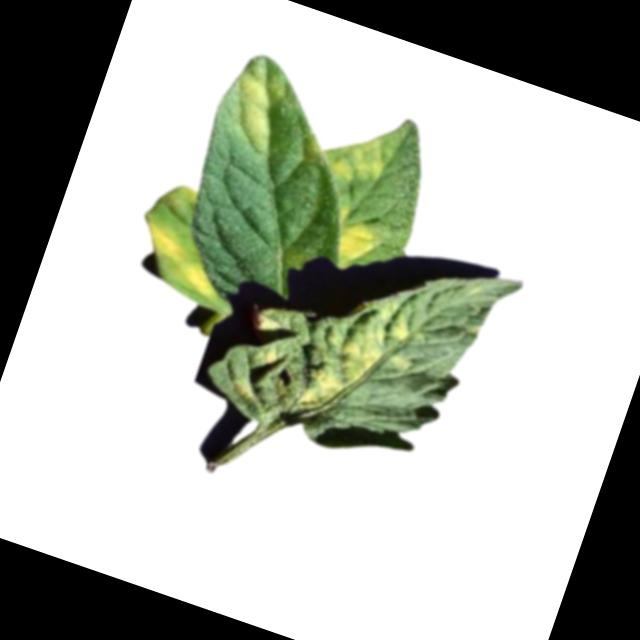Leaf_Mold: (285, 282, 427, 443), (311, 97, 413, 198), (125, 212, 235, 304), (213, 49, 297, 156), (319, 197, 391, 276)
